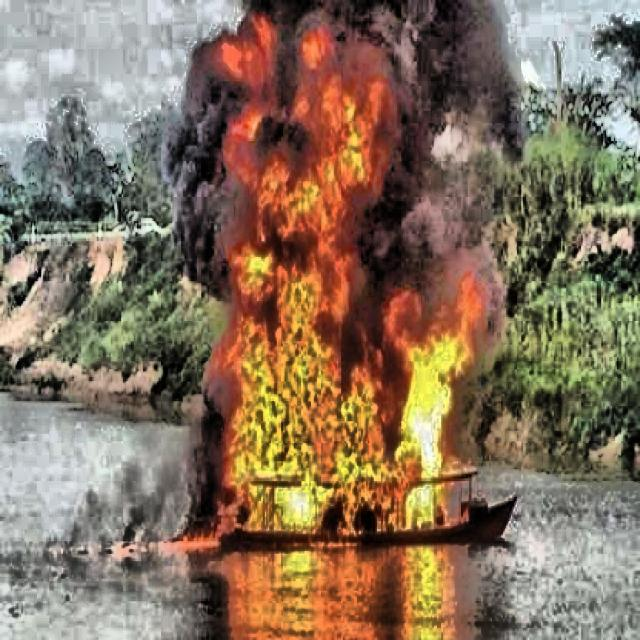Fire: (203, 12, 482, 548)
